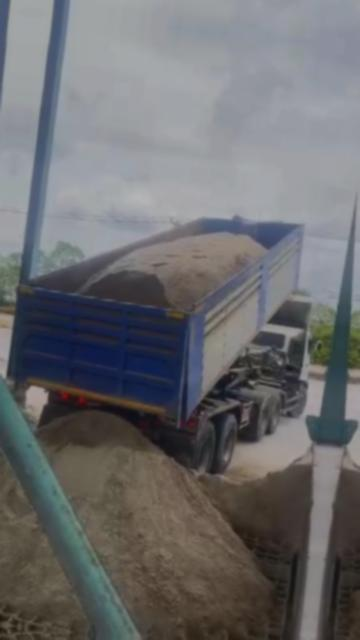sand: (38, 411, 271, 640), (0, 452, 85, 632), (76, 232, 266, 309), (200, 457, 311, 550), (0, 590, 78, 633)
